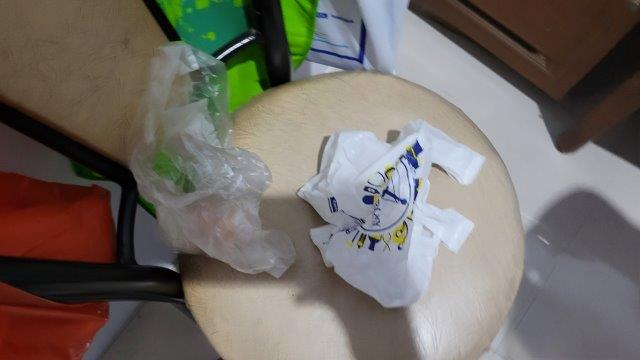plastik: (127, 39, 293, 276), (300, 118, 484, 301)
